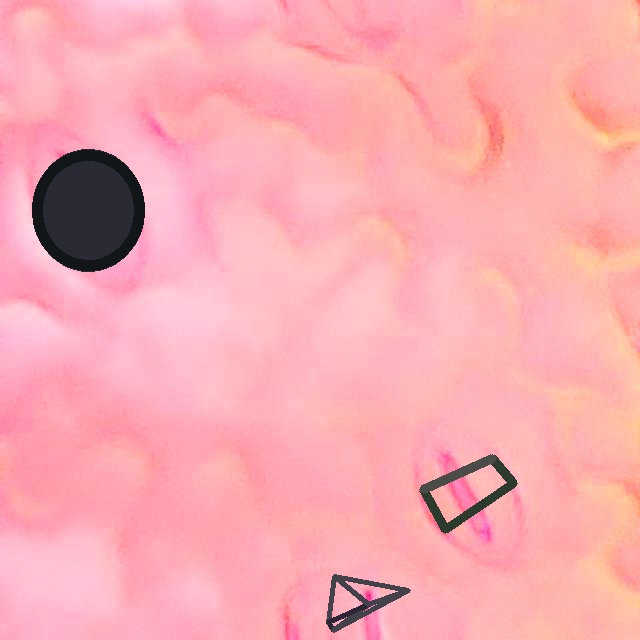open: (32, 149, 143, 271), (419, 454, 517, 533), (326, 575, 409, 632)
